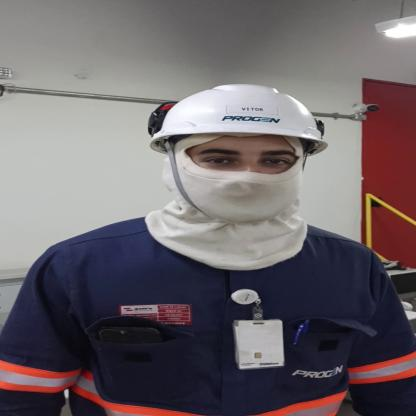Balaclava: (141, 141, 316, 266)
Capacete: (141, 82, 336, 157)
